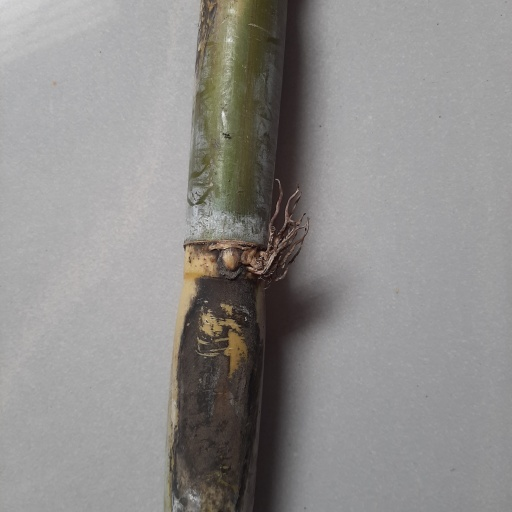Bud: (220, 247, 241, 272)
